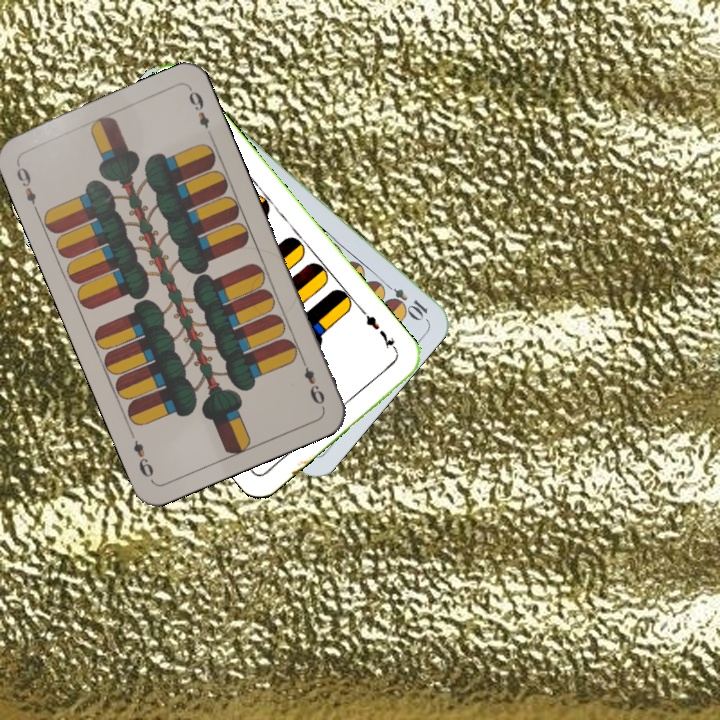E10: (378, 277, 431, 322)
E7: (358, 307, 401, 356)
E9: (297, 353, 328, 410), (12, 158, 41, 215)
